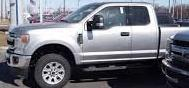Trucks: (8, 4, 189, 88)
